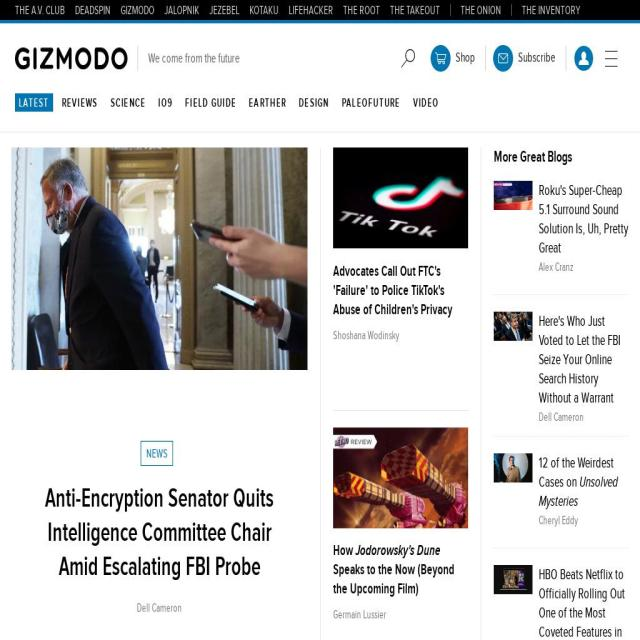button: (34, 482, 285, 586), (538, 312, 629, 408), (15, 23, 127, 94), (333, 261, 468, 319), (333, 541, 468, 598), (538, 181, 629, 257), (538, 565, 629, 640), (538, 453, 629, 511), (489, 40, 570, 77), (427, 40, 489, 77), (538, 258, 629, 278), (538, 408, 629, 428), (538, 511, 629, 531), (333, 325, 399, 346), (338, 93, 404, 112), (181, 93, 241, 112), (493, 181, 532, 210), (493, 312, 532, 341), (493, 453, 532, 482), (493, 565, 532, 594), (333, 605, 386, 625), (394, 40, 422, 77), (597, 40, 625, 77), (137, 598, 182, 620), (141, 441, 178, 467), (245, 93, 291, 112), (57, 93, 102, 112), (106, 93, 150, 112), (15, 93, 53, 112), (295, 93, 333, 112), (409, 93, 443, 112), (574, 46, 594, 71), (154, 93, 177, 112), (333, 427, 468, 428)
heading: (34, 482, 285, 586), (538, 312, 629, 408), (333, 261, 468, 319), (538, 181, 629, 257), (538, 565, 629, 640), (334, 561, 454, 597), (538, 473, 618, 510), (538, 454, 614, 491), (494, 148, 628, 168), (356, 542, 440, 559), (333, 542, 356, 559)
image: (11, 148, 308, 370), (333, 427, 468, 561), (333, 148, 468, 249), (15, 47, 156, 76), (493, 181, 532, 210), (493, 312, 532, 341), (493, 453, 532, 482), (493, 565, 532, 594), (400, 48, 416, 68), (604, 48, 618, 68), (578, 51, 590, 66), (435, 51, 446, 66), (498, 51, 508, 66)
link: (522, 4, 580, 18), (15, 4, 65, 18), (390, 4, 440, 18), (289, 4, 333, 18), (461, 4, 501, 18), (343, 4, 380, 18), (75, 4, 111, 18), (164, 4, 200, 18), (120, 4, 154, 18), (210, 4, 240, 18), (249, 4, 279, 18)
text: (138, 46, 240, 71), (341, 93, 401, 112), (185, 93, 237, 112), (333, 328, 399, 342), (141, 441, 173, 467), (518, 48, 556, 68), (333, 608, 386, 622), (249, 93, 287, 112), (61, 93, 98, 112), (110, 93, 146, 112), (137, 602, 182, 616), (538, 411, 584, 424), (19, 93, 49, 112), (299, 93, 329, 112), (538, 514, 578, 528), (412, 93, 440, 112), (538, 261, 573, 274), (456, 48, 475, 68), (158, 93, 173, 112)
